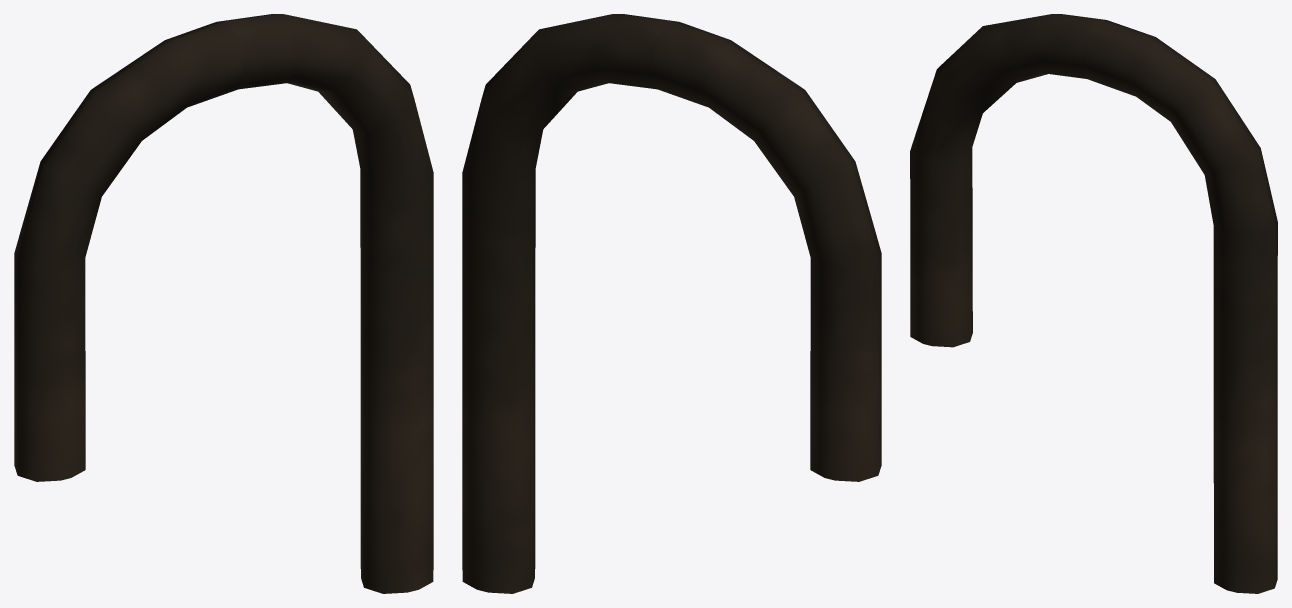
File: padlock_3_shackle.fbx
3 renders of one model, left to right at view 1: azimuth 30°, elevation 25°; view 2: azimuth 150°, elevation 25°; view 3: azimuth 330°, elevation 25°, orthographic. The views are drawn at different scales.
Parts seen in each view (by area): view 1: padlock_3_shackle; view 2: padlock_3_shackle; view 3: padlock_3_shackle.
Boxes of the visible parts, x1,y1,x2,y2 form: padlock_3_shackle: (14,14,433,593); padlock_3_shackle: (462,14,881,593); padlock_3_shackle: (910,14,1277,593).
Bounding box in the file's own units: 0.0686 × 0.0091 × 0.0951.
